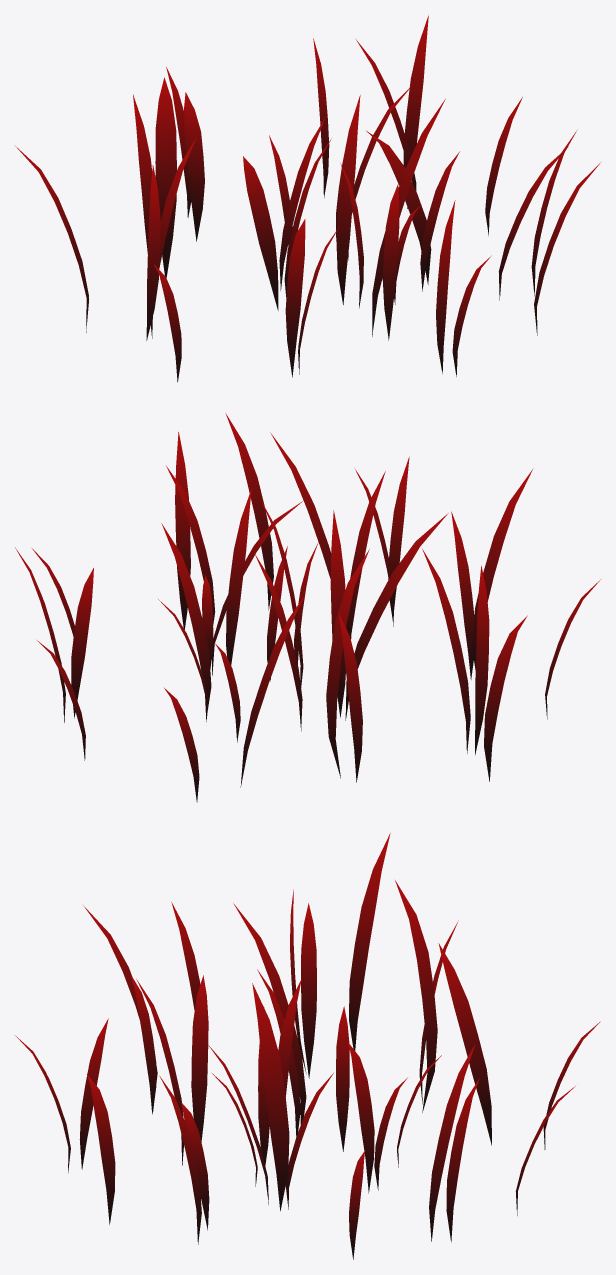
File: Grass.fbx
3 views of the same model, one above another, from view 1: azimuth 30°, elevation 25°; view 2: azimuth 150°, elevation 25°; view 3: azimuth 270°, elevation 25° (orthographic). The views are drawn at different scales.
Visible parts, largest first — view 1: Grass; view 2: Grass; view 3: Grass.
Part boxes in pixels (box(x1,y1,x2,y2)): Grass: box(15, 15, 600, 382); Grass: box(15, 413, 600, 802); Grass: box(15, 833, 600, 1259).
Size of the model in its own units: 3.41 by 1.44 by 3.37.
